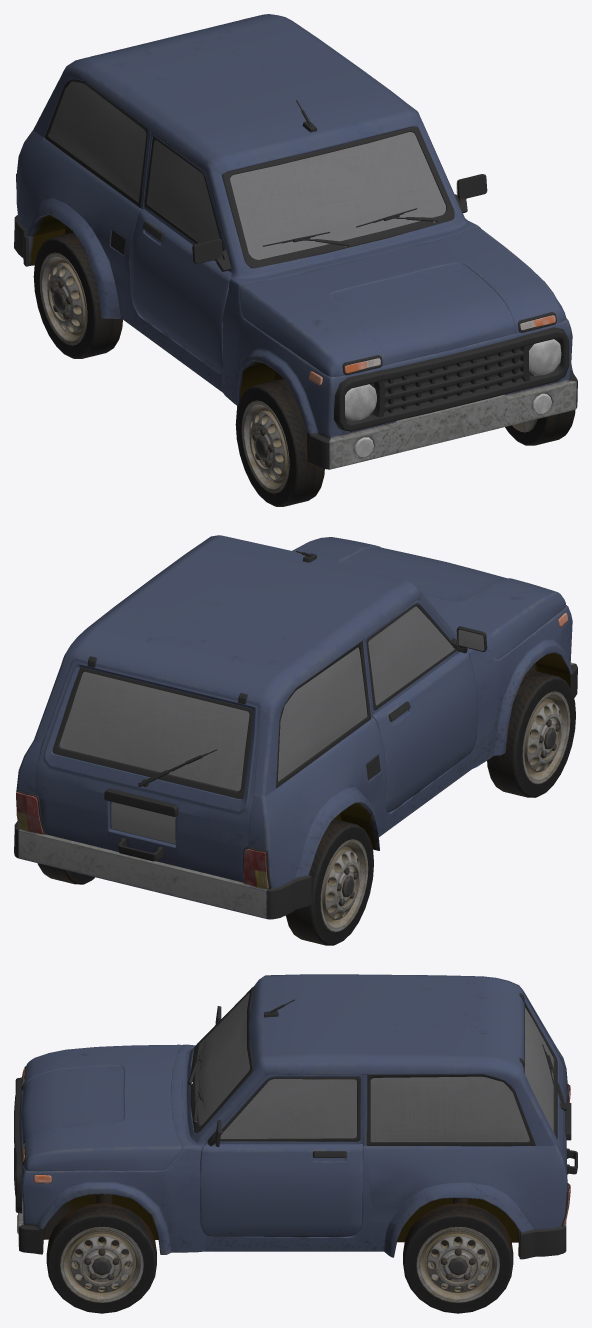
The model's file is pt_auto_niva.glb.
3 views of the same model, one above another, from view 1: azimuth 30°, elevation 25°; view 2: azimuth 150°, elevation 25°; view 3: azimuth 270°, elevation 25° (orthographic). The views are drawn at different scales.
Parts seen in each view (by area): view 1: Colesa; view 2: Colesa; view 3: Colesa.
Part boxes in pixels (x1,y1,x2,y2): Colesa: [14, 14, 577, 506]; Colesa: [14, 535, 577, 945]; Colesa: [14, 974, 577, 1313].
Bounding box in the file's own units: 1.3 × 1.23 × 2.47.
2 materials, 2 textured.
